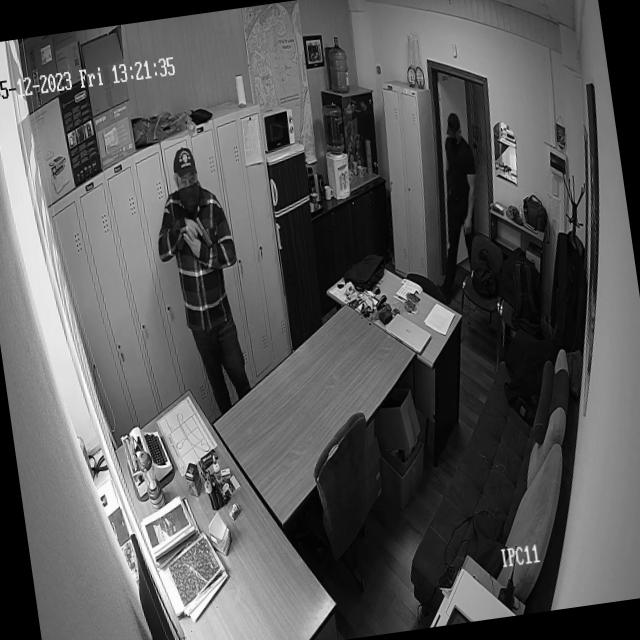gun: (194, 206, 216, 255)
person: (424, 111, 494, 292)
person with a gun: (146, 137, 264, 414)
